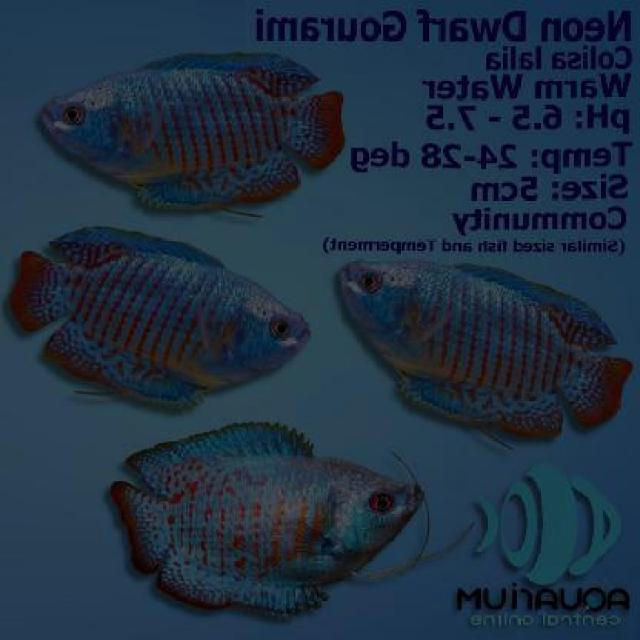Gourami: (114, 418, 421, 613), (329, 252, 637, 446), (8, 224, 312, 407), (36, 40, 349, 212)
